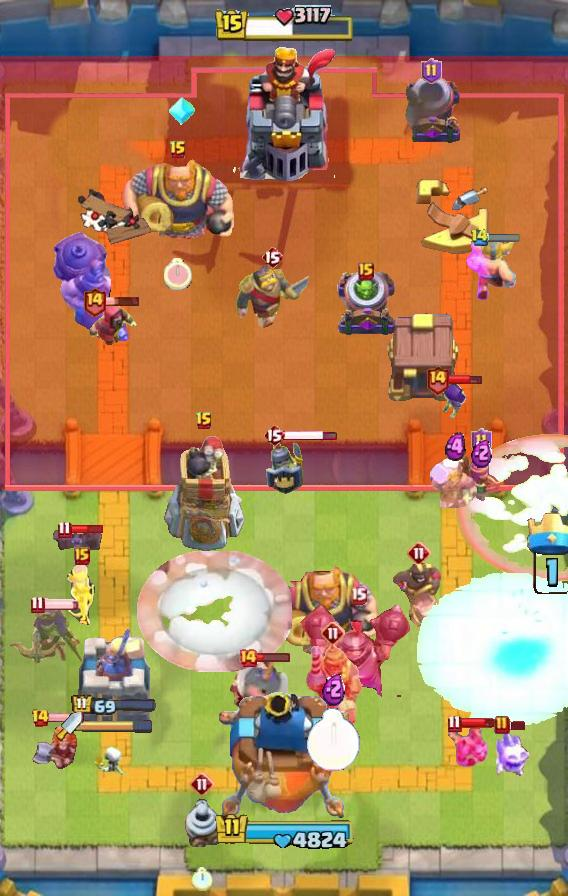bar: (75, 623, 153, 731)
barbarian-barrel: (49, 528, 107, 550)
barbarian-hut: (7, 600, 89, 676)
bomb: (382, 310, 462, 404)
bowler: (87, 302, 139, 350)
cannon: (456, 458, 506, 504), (67, 563, 97, 627)
clock: (210, 811, 358, 853), (213, 5, 355, 45)
electro-spirit: (322, 672, 345, 706), (446, 432, 467, 462), (472, 438, 493, 468)
elixir: (306, 708, 361, 772), (164, 258, 192, 290), (191, 867, 213, 891)
emote: (283, 429, 338, 442), (447, 373, 483, 386), (42, 598, 80, 610), (104, 295, 141, 307), (486, 232, 522, 244), (255, 652, 291, 664), (459, 717, 495, 729), (71, 523, 106, 535), (47, 712, 84, 723), (507, 721, 527, 732)
firecracker: (235, 266, 309, 329)
freeze: (391, 561, 447, 631)
giant-skeleton: (264, 561, 380, 661), (120, 155, 236, 245)
goblin: (440, 381, 470, 421)
goblin-cage: (399, 76, 463, 146), (334, 268, 398, 338)
goblin-drill: (178, 793, 226, 847)
goblin-giant: (466, 235, 517, 301)
heal-spirit: (92, 745, 126, 779)
hog-rider: (31, 722, 81, 772)
king-tower: (219, 692, 349, 826), (230, 45, 338, 181)
king-tower-bar: (82, 719, 154, 733)
mega-knight: (413, 569, 567, 730)
mighty-miner: (428, 456, 482, 510)
mirror: (493, 727, 533, 779)
monk: (228, 660, 294, 726)
pad_2: (167, 96, 197, 126)
phoenix-big: (454, 432, 568, 583)
princess: (265, 434, 307, 498)
ram-rider: (304, 641, 362, 733)
royal-delivery: (444, 724, 490, 770)
royal-guardian: (298, 601, 418, 703)
selected: (71, 694, 157, 717)
text: (426, 364, 451, 395), (82, 287, 106, 318), (407, 541, 431, 565), (321, 621, 345, 645), (190, 772, 214, 796), (421, 58, 442, 84), (472, 428, 493, 454), (261, 245, 283, 269), (263, 423, 285, 447), (238, 648, 258, 668), (31, 708, 50, 728), (169, 140, 187, 160), (195, 411, 213, 431), (470, 229, 489, 247), (350, 587, 367, 606), (494, 715, 510, 735), (358, 262, 374, 280), (74, 547, 90, 565), (447, 715, 462, 734), (30, 595, 45, 613), (57, 521, 71, 539)
wall-breaker: (137, 552, 292, 673)
wizard: (50, 230, 132, 344)
zappy: (162, 434, 247, 556)
